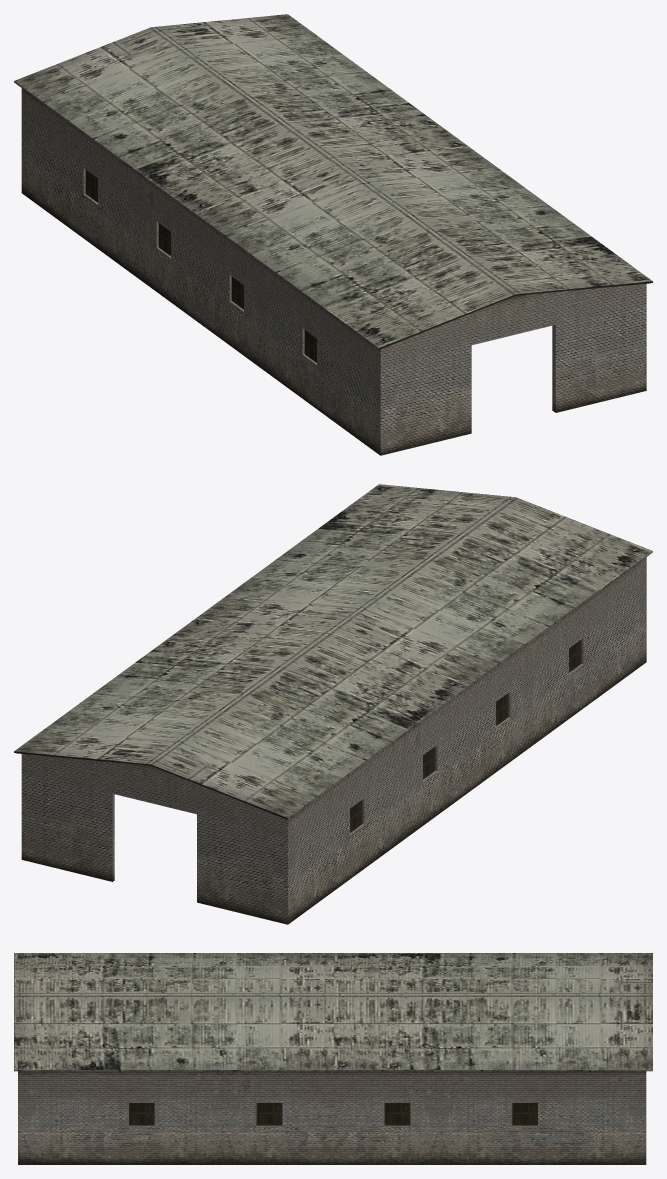
The model's file is Dhz_zsfz_10.FBX.
3 views of the same model, one above another, from view 1: azimuth 30°, elevation 25°; view 2: azimuth 150°, elevation 25°; view 3: azimuth 270°, elevation 25° (orthographic). The views are drawn at different scales.
Parts seen in each view (by area): view 1: Dhz_zsfz_10; view 2: Dhz_zsfz_10; view 3: Dhz_zsfz_10.
Boxes of the visible parts, x1=… form: Dhz_zsfz_10: x1=14, y1=14, x2=652, y2=455; Dhz_zsfz_10: x1=14, y1=484, x2=652, y2=924; Dhz_zsfz_10: x1=14, y1=953, x2=652, y2=1164.
Size of the model in its own units: 13 by 5.92 by 30.
